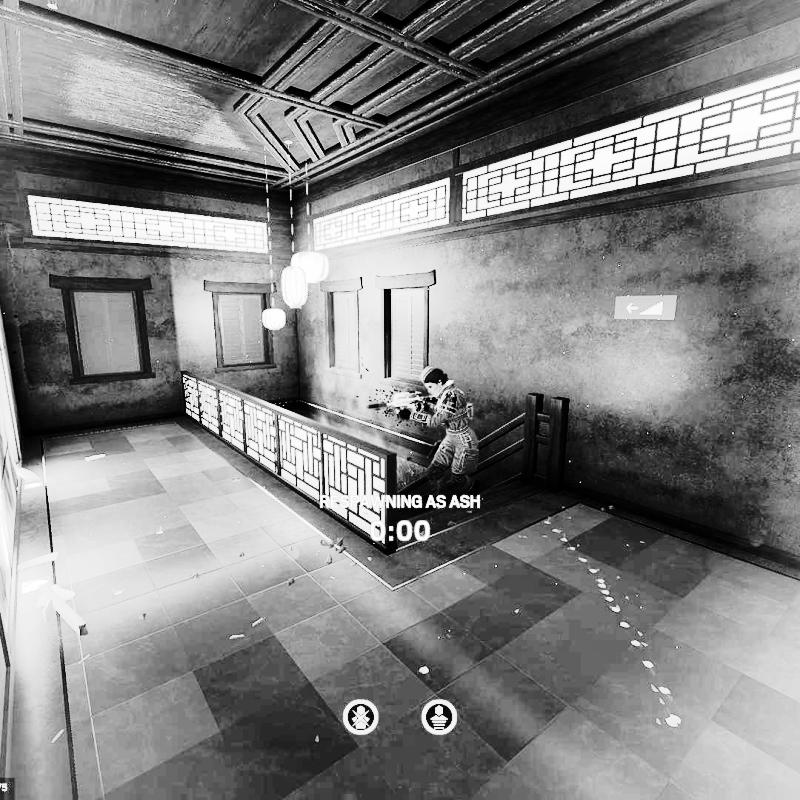Character: (391, 363, 483, 516)
Head: (419, 364, 447, 396)
